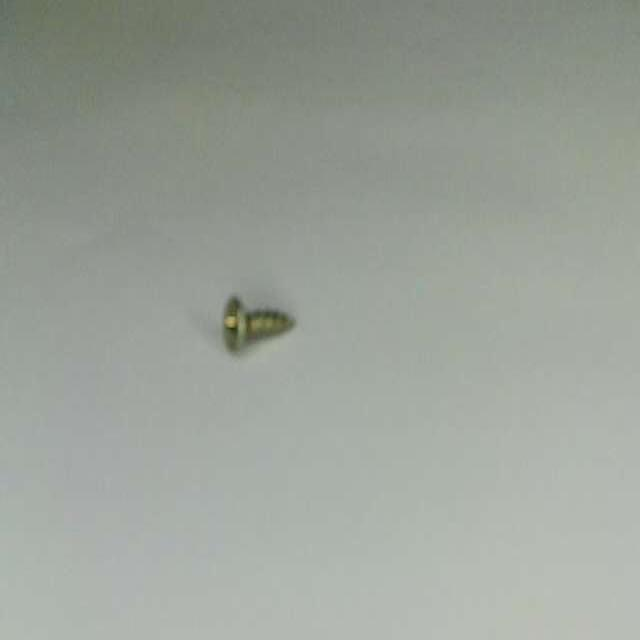Parafuso: (224, 297, 294, 351)
